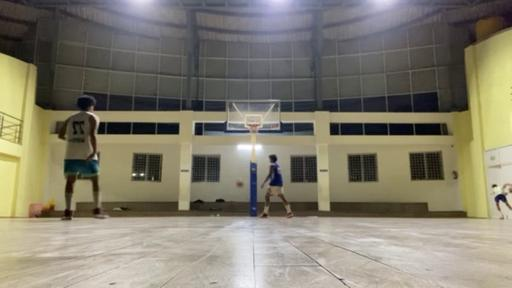ball: (236, 180, 244, 187), (509, 187, 512, 193)
human: (58, 96, 110, 220), (261, 155, 294, 218), (490, 182, 512, 220)
rim: (246, 124, 261, 136)
